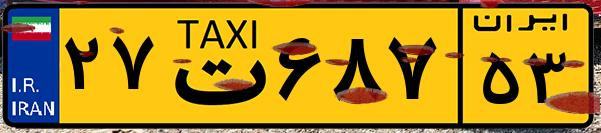2: (57, 26, 110, 100)
3: (525, 38, 570, 115)
5: (475, 38, 525, 113)
6: (270, 28, 330, 110)
7: (385, 28, 445, 110), (110, 28, 158, 98)
8: (330, 28, 385, 110)
ت: (158, 12, 270, 120)
